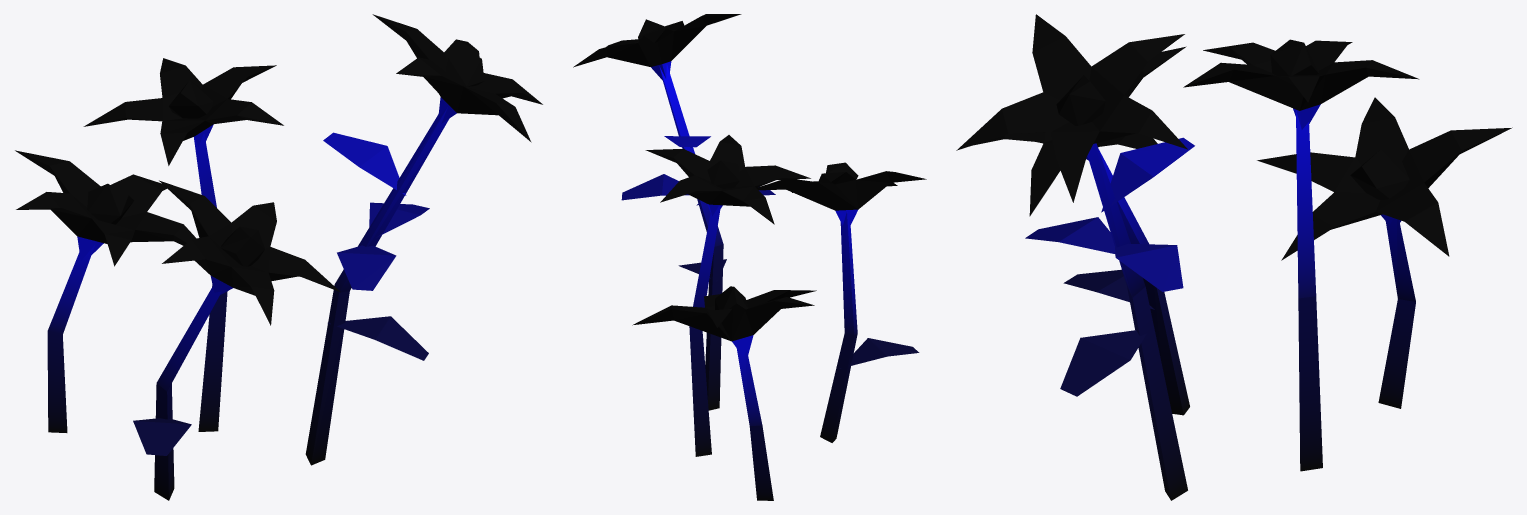
File: PatchSpud02.fbx
3 views of the same model, side by side, from view 1: azimuth 30°, elevation 25°; view 2: azimuth 150°, elevation 25°; view 3: azimuth 270°, elevation 25° (orthographic). The views are drawn at different scales.
Visible parts, largest first — view 1: PatchSpud02; view 2: PatchSpud02; view 3: PatchSpud02.
Part boxes in pixels (x1,y1,x2,y2): PatchSpud02: [15, 14, 542, 500]; PatchSpud02: [573, 14, 926, 500]; PatchSpud02: [956, 14, 1512, 500].
Size of the model in its own units: 34.93 by 36.02 by 36.45.
